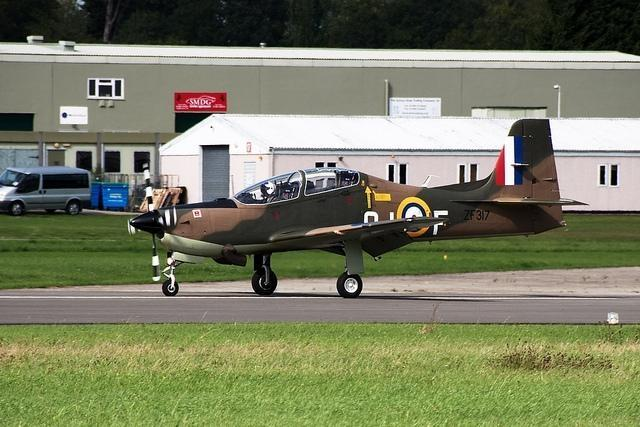truck: (0, 166, 92, 216)
